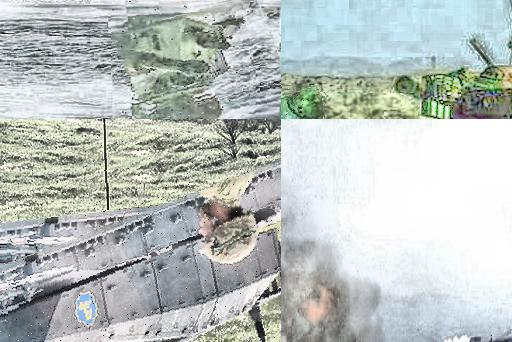tanks: (1, 158, 282, 342), (111, 1, 256, 120), (397, 65, 512, 120), (282, 86, 326, 120), (489, 330, 512, 342)
